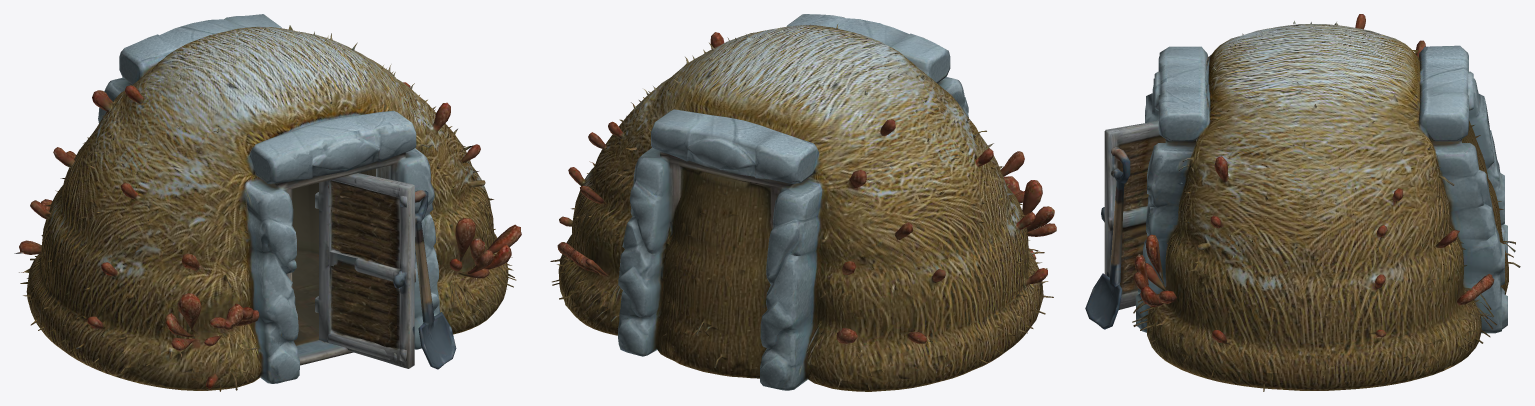
The model's file is lm_barrow_door.glb.
3 renders of one model, left to right at view 1: azimuth 30°, elevation 25°; view 2: azimuth 150°, elevation 25°; view 3: azimuth 270°, elevation 25°, orthographic.
Parts seen in each view (by area): view 1: lm_barrow_door-convcol; view 2: lm_barrow_door-convcol; view 3: lm_barrow_door-convcol.
Boxes of the visible parts, box(x1,y1,x2,y2) form: lm_barrow_door-convcol: box(14, 14, 521, 391); lm_barrow_door-convcol: box(550, 14, 1056, 391); lm_barrow_door-convcol: box(1085, 14, 1520, 391).
Bounding box in the file's own units: 4.03 × 2.2 × 3.51.
Materials: 1 (1 with a texture image).
